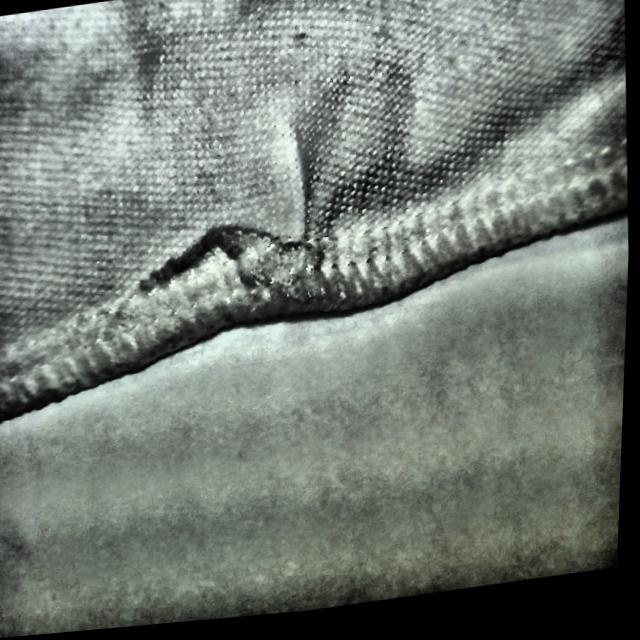seam: (121, 115, 373, 352)
